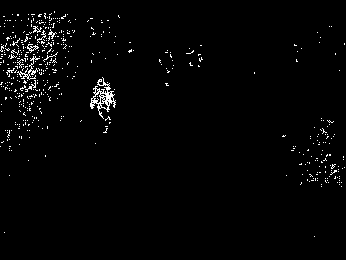person: (91, 77, 117, 136), (158, 50, 177, 87)
